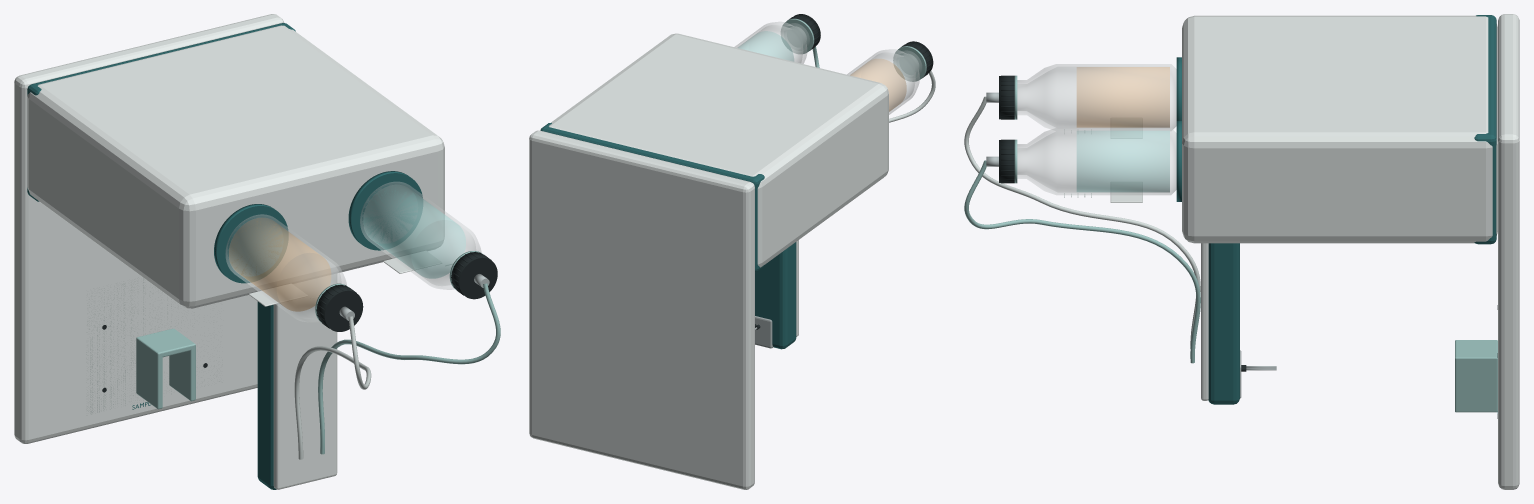
Rendered from pipetting_station.glb.
The picture shows the model from 3 angles, left to right: view 1: azimuth 30°, elevation 25°; view 2: azimuth 150°, elevation 25°; view 3: azimuth 270°, elevation 25°; orthographic projection. The views are drawn at different scales.
Visible parts, largest first — view 1: Pipetting rear housing, Pipetting enamel platform, Pipetting head cover, Pipetting amber bottle, Pipetting teal bottle, Pipetting teal liquid, Pipetting amber liquid, Pipetting teal reservoir seat, Pipetting amber reservoir seat, Pipetting head, Pipetting teal feed tube, pipetting_holder_side_0 (+9 smaller); view 2: Pipetting enamel platform, Pipetting rear housing, Pipetting head, Pipetting amber bottle, Pipetting teal bottle, Pipetting lower plinth, Pipetting amber liquid, Pipetting teal liquid, Pipetting teal cap band, Pipetting amber cap band, Pipetting head nose; view 3: Pipetting rear housing, Pipetting enamel platform, Pipetting teal bottle, Pipetting amber bottle, Pipetting amber liquid, Pipetting teal liquid, Pipetting head, pipetting_holder_side_1, Pipetting teal feed tube, Pipetting lower plinth, Pipetting amber feed tube, Pipetting head cover (+5 smaller).
Boxes of the visible parts, x1=… form: Pipetting rear housing: x1=27, y1=25, x2=444, y2=308; Pipetting enamel platform: x1=14, y1=14, x2=284, y2=443; Pipetting head cover: x1=273, y1=274, x2=337, y2=489; Pipetting amber bottle: x1=225, y1=214, x2=346, y2=322; Pipetting teal bottle: x1=360, y1=182, x2=481, y2=289; Pipetting teal liquid: x1=363, y1=185, x2=465, y2=278; Pipetting amber liquid: x1=229, y1=218, x2=330, y2=311; Pipetting teal reservoir seat: x1=348, y1=171, x2=422, y2=250; Pipetting amber reservoir seat: x1=214, y1=204, x2=288, y2=283; Pipetting head: x1=257, y1=301, x2=276, y2=489; Pipetting teal feed tube: x1=318, y1=283, x2=500, y2=454; pipetting_holder_side_0: x1=136, y1=336, x2=162, y2=409; Pipetting enamel platform: x1=529, y1=130, x2=754, y2=489; Pipetting rear housing: x1=549, y1=33, x2=888, y2=267; Pipetting head: x1=755, y1=242, x2=796, y2=349; Pipetting amber bottle: x1=847, y1=49, x2=921, y2=114; Pipetting teal bottle: x1=735, y1=22, x2=809, y2=63; Pipetting lower plinth: x1=540, y1=123, x2=764, y2=272; Pipetting amber liquid: x1=850, y1=59, x2=906, y2=111; Pipetting teal liquid: x1=738, y1=31, x2=793, y2=61; Pipetting teal cap band: x1=781, y1=18, x2=814, y2=53; Pipetting amber cap band: x1=893, y1=46, x2=926, y2=81; Pipetting head nose: x1=755, y1=316, x2=773, y2=348; Pipetting rear housing: x1=1182, y1=15, x2=1497, y2=243; Pipetting enamel platform: x1=1498, y1=14, x2=1519, y2=489; Pipetting teal bottle: x1=1017, y1=128, x2=1176, y2=194; Pipetting amber bottle: x1=1017, y1=64, x2=1176, y2=130; Pipetting amber liquid: x1=1077, y1=67, x2=1169, y2=127; Pipetting teal liquid: x1=1077, y1=131, x2=1169, y2=191; Pipetting head: x1=1208, y1=243, x2=1239, y2=404; pipetting_holder_side_1: x1=1455, y1=357, x2=1497, y2=412; Pipetting teal feed tube: x1=964, y1=160, x2=1200, y2=363; Pipetting lower plinth: x1=1474, y1=15, x2=1496, y2=244; Pipetting amber feed tube: x1=964, y1=96, x2=1200, y2=348; Pipetting head cover: x1=1201, y1=243, x2=1208, y2=400.
Size of the model in its own units: 0.22 by 0.29 by 0.4113.
